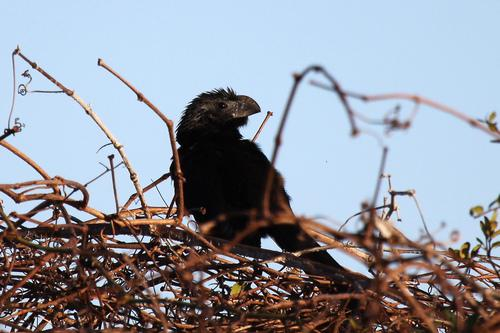004.Groove_billed_Ani: (172, 87, 361, 302)
